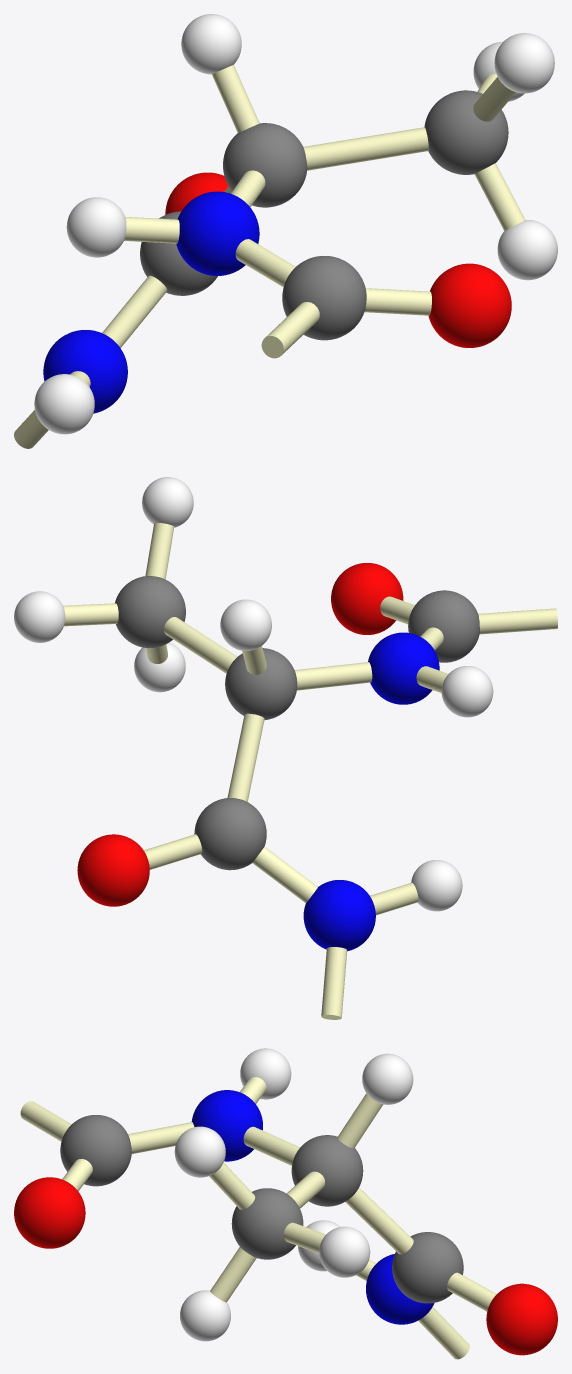
The model's file is conformation.gltf.
3 renders of one model, top to bottom at view 1: azimuth 30°, elevation 25°; view 2: azimuth 150°, elevation 25°; view 3: azimuth 270°, elevation 25°, orthographic. The views are drawn at different scales.
Parts seen in each view (by area): view 1: ?????????2, ?????????3, ?????????9, ?????????1, ?????????4, ?????????13, ?????????22, ?????????10, ?????????14, ?????????7, ?????????8, ?????????12 (+13 smaller); view 2: ?????????6, ?????????5, ?????????13, ?????????9, ?????????2, ?????????3, ?????????4, ?????????1, ?????????8, ?????????7, ?????????11, ?????????10 (+12 smaller); view 3: ?????????6, ?????????2, ?????????5, ?????????1, ?????????9, ?????????4, ?????????3, ?????????13, ?????????10, ?????????8, ?????????11, ?????????12 (+15 smaller).
Part boxes in pixels (<box>): ?????????2: <box>428,263,511,347</box>; ?????????3: <box>176,191,259,275</box>; ?????????9: <box>424,90,508,174</box>; ?????????1: <box>282,256,366,340</box>; ?????????4: <box>223,123,307,207</box>; ?????????13: <box>43,330,127,413</box>; ?????????22: <box>303,127,428,170</box>; ?????????10: <box>494,33,554,93</box>; ?????????14: <box>34,374,94,434</box>; ?????????7: <box>66,197,126,257</box>; ?????????8: <box>181,14,241,74</box>; ?????????12: <box>497,220,557,280</box>; ?????????6: <box>77,834,149,906</box>; ?????????5: <box>194,798,266,870</box>; ?????????13: <box>303,880,375,951</box>; ?????????9: <box>115,576,185,648</box>; ?????????2: <box>331,563,403,634</box>; ?????????3: <box>368,632,439,704</box>; ?????????4: <box>225,648,297,720</box>; ?????????1: <box>408,590,479,662</box>; ?????????8: <box>220,599,271,650</box>; ?????????7: <box>441,666,493,717</box>; ?????????11: <box>14,591,65,642</box>; ?????????10: <box>142,477,193,527</box>; ?????????6: <box>486,1283,557,1355</box>; ?????????2: <box>14,1177,85,1248</box>; ?????????5: <box>392,1232,463,1303</box>; ?????????1: <box>60,1115,131,1186</box>; ?????????9: <box>231,1188,303,1259</box>; ?????????4: <box>291,1135,363,1206</box>; ?????????3: <box>191,1090,262,1161</box>; ?????????13: <box>366,1254,434,1324</box>; ?????????10: <box>174,1126,225,1177</box>; ?????????8: <box>362,1053,413,1104</box>; ?????????11: <box>319,1226,370,1277</box>; ?????????12: <box>180,1290,230,1341</box>.
Bounding box in the file's own units: 48.29 × 40.01 × 53.18.
